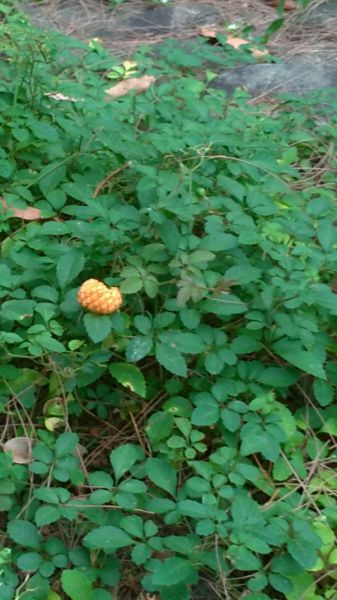eggs: (73, 271, 127, 319)
